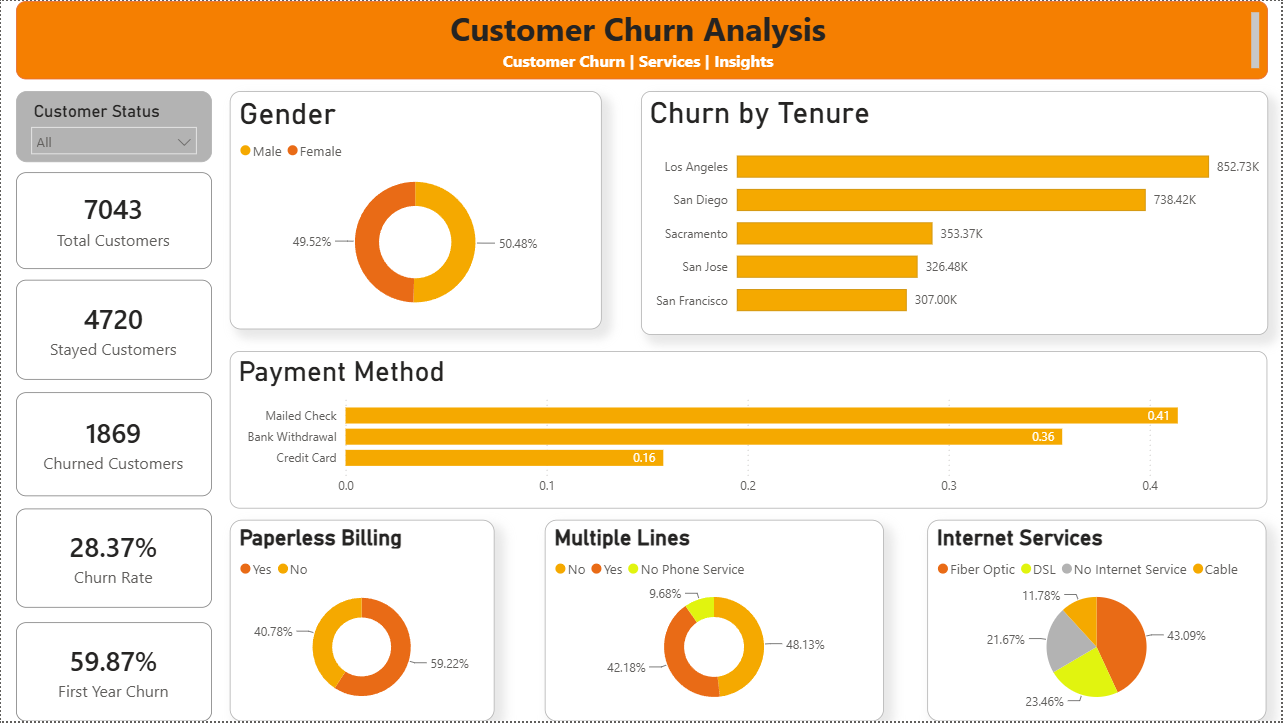

Layout of this report page (visuals, bound fields, positions):
{"tool":"powerbi","page":{"name":"Page 1","canvas":[1280,720],"ordinal":0},"visuals":[{"type":"cardVisual","fields":{"Data":["telecom_customer_churn.Total Customers"]},"box":[14.7,171.2,195.7,96.6],"z":0},{"type":"cardVisual","fields":{"Data":["telecom_customer_churn.Churn Rate"]},"box":[14.7,507.5,195.7,99],"z":1000},{"type":"cardVisual","fields":{"Data":["telecom_customer_churn.Stayed Customers"]},"box":[14.7,278.8,195.7,100.3],"z":2000},{"type":"cardVisual","fields":{"Data":["telecom_customer_churn.Churned Customers"]},"box":[14.7,391.3,195.7,103.9],"z":3000},{"type":"textbox","box":[14.7,0,1252.2,78.3],"z":4000},{"type":"slicer","fields":{"Values":["telecom_customer_churn.Customer Status"]},"box":[14.7,90.5,195.7,70.9],"z":5000},{"type":"cardVisual","fields":{"Data":["telecom_customer_churn.First Year Churn"]},"box":[14.7,621.2,195.7,99],"z":6000},{"type":"donutChart","title":"Gender","fields":{"Category":["telecom_customer_churn.Gender"],"Y":["CountNonNull(telecom_customer_churn.Customer ID)"]},"box":[228.4,90.3,371.7,238.8],"z":7000},{"type":"clusteredBarChart","title":"Churn by Tenure ","fields":{"Y":["Sum(telecom_customer_churn.Total Revenue)"],"Category":["telecom_customer_churn.City"]},"box":[640.1,90.3,627.2,243.9],"z":8000},{"type":"clusteredBarChart","title":"Payment Method","fields":{"Category":["telecom_customer_churn.Payment Method"],"Y":["telecom_customer_churn.Churn Rate"]},"box":[228.4,349.7,1037.6,157.5],"z":9000},{"type":"donutChart","box":[228.4,518.8,264.6,201.3],"z":10000},{"type":"donutChart","title":"Paperless Billing","fields":{"Category":["telecom_customer_churn.Paperless Billing"],"Y":["CountNonNull(telecom_customer_churn.Customer ID)"]},"box":[228.4,518.7,264.6,201.3],"z":11000},{"type":"donutChart","title":"Multiple Lines ","fields":{"Y":["CountNonNull(telecom_customer_churn.Customer ID)"],"Category":["telecom_customer_churn.Multiple Lines"]},"box":[543.3,518.8,339.4,201.3],"z":11001},{"type":"pieChart","title":"Internet Services","fields":{"Y":["CountNonNull(telecom_customer_churn.Customer ID)"],"Category":["telecom_customer_churn.Internet Type"]},"box":[926.6,518.8,339.4,201.3],"z":11002}]}

Visuals, with their boxes in screenshot pixels (x1, y1, x2, y2), scaled from the page's 1280x720 canvas onto the 1285x723 screenshot:
cardVisual - telecom_customer_churn.Total Customers: <box>15,172,211,269</box>
cardVisual - telecom_customer_churn.Churn Rate: <box>15,510,211,609</box>
cardVisual - telecom_customer_churn.Stayed Customers: <box>15,280,211,381</box>
cardVisual - telecom_customer_churn.Churned Customers: <box>15,393,211,497</box>
textbox: <box>15,0,1272,79</box>
slicer - telecom_customer_churn.Customer Status: <box>15,91,211,162</box>
cardVisual - telecom_customer_churn.First Year Churn: <box>15,624,211,722</box>
"Gender" donutChart: <box>229,91,602,330</box>
"Churn by Tenure " clusteredBarChart: <box>643,91,1272,336</box>
"Payment Method" clusteredBarChart: <box>229,351,1271,509</box>
donutChart: <box>229,521,495,722</box>
"Paperless Billing" donutChart: <box>229,521,495,722</box>
"Multiple Lines " donutChart: <box>545,521,886,722</box>
"Internet Services" pieChart: <box>930,521,1271,722</box>
